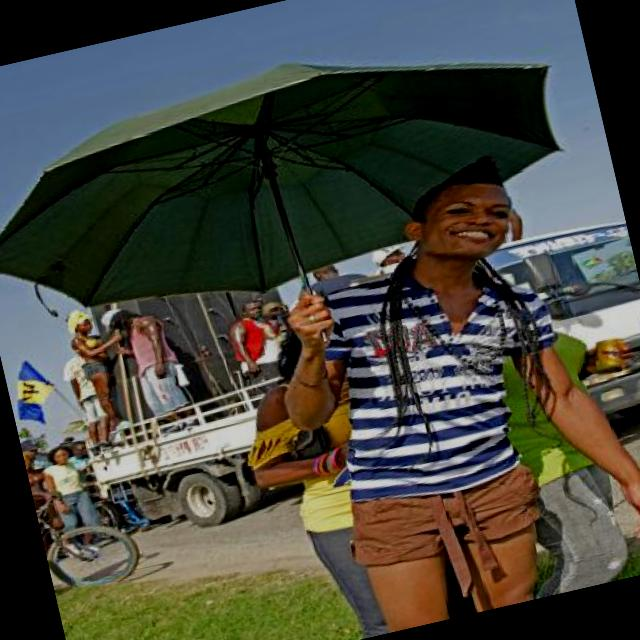Person: (241, 128, 640, 634), (221, 319, 396, 640), (477, 317, 640, 598), (98, 294, 203, 436), (62, 296, 147, 435), (38, 438, 108, 560), (55, 333, 118, 458), (233, 297, 296, 397), (308, 255, 372, 296), (23, 445, 59, 514), (64, 436, 94, 474)
